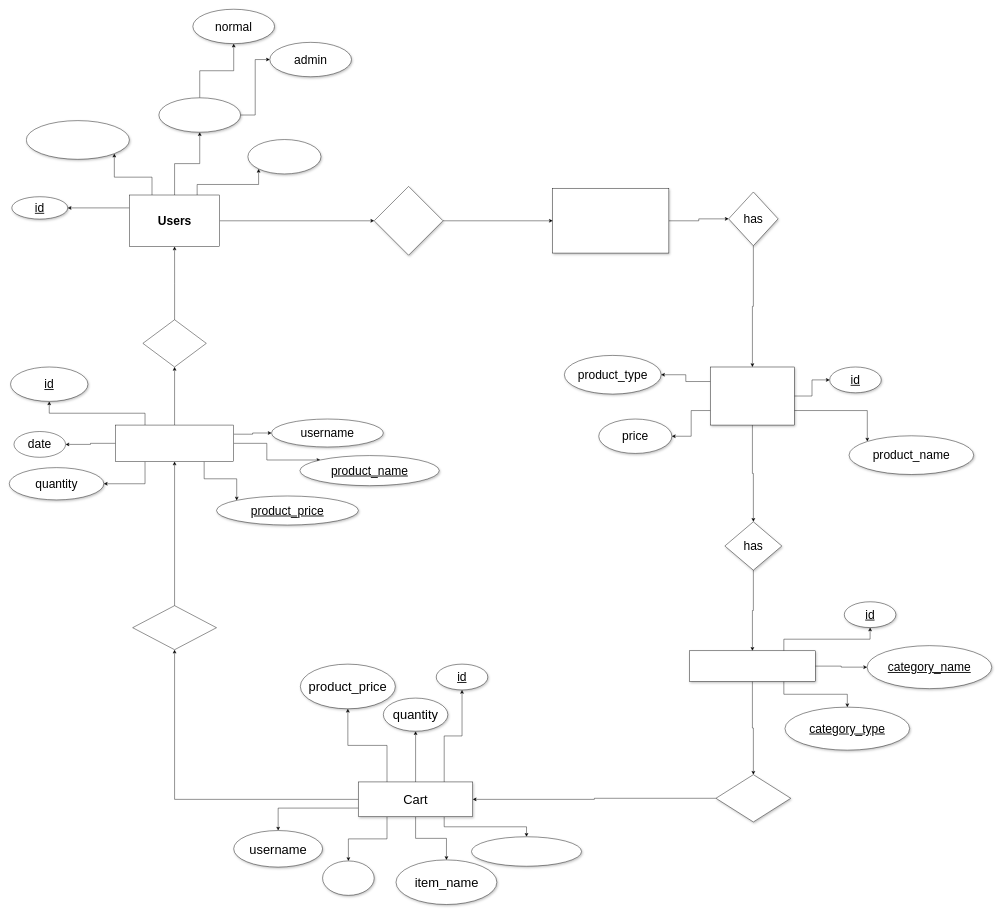
Some shapes in this 1002 by 915 pixel diagram are drawn without their labels. Here are the shapes that lost their labels. From the top down, the centre of each, then its label:
At [200,115]: "type".
At [78,140]: "user_name".
At [285,157]: "password".
At [409,221]: "belong to".
At [611,221]: "Shop For Home".
At [174,343]: "does".
At [752,396]: "product".
At [174,443]: "Sales_log".
At [174,627]: "done for".
At [752,666]: "category".
At [753,798]: "added to".
At [526,852]: "product_id".
At [348,878]: "img_url".
